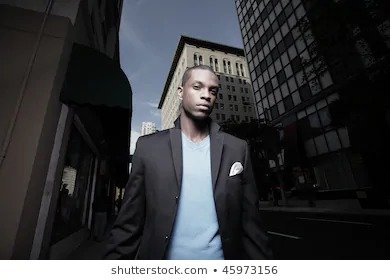F_M_suit jacket: (103, 118, 271, 261)
